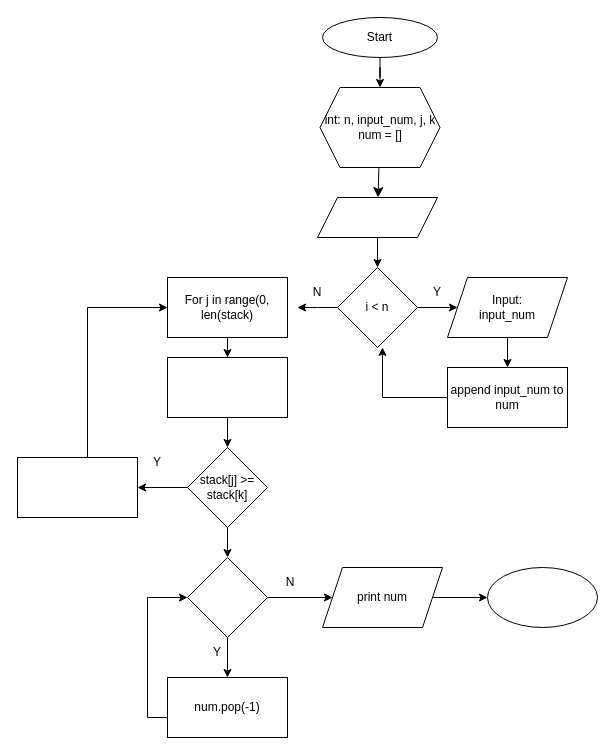
The diagram is 615 pixels wide and 755 high, and some of its shapes have lost their labels. Here are the shapes that lost their labels. From the top down, the box of each, then its label:
(316, 196, 438, 238): input: n
(166, 356, 288, 418): For k in range(j+1, len(stack)
(16, 456, 138, 518): num[j], num[k] = num[k], num[j]
(186, 556, 268, 638): len(num) !=1
(486, 566, 598, 628): End
